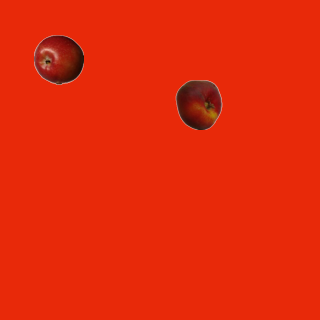Apple Braeburn: (33, 34, 83, 84)
Nectarine Flat: (173, 79, 223, 129)
